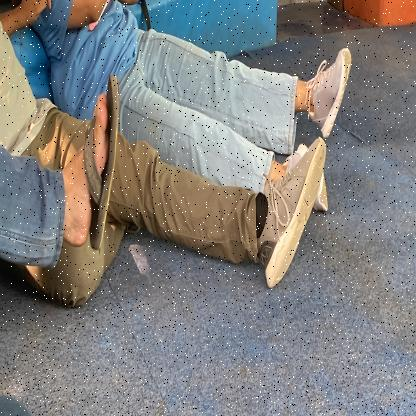leg: (132, 134, 348, 284), (21, 59, 134, 248), (225, 29, 362, 136)
